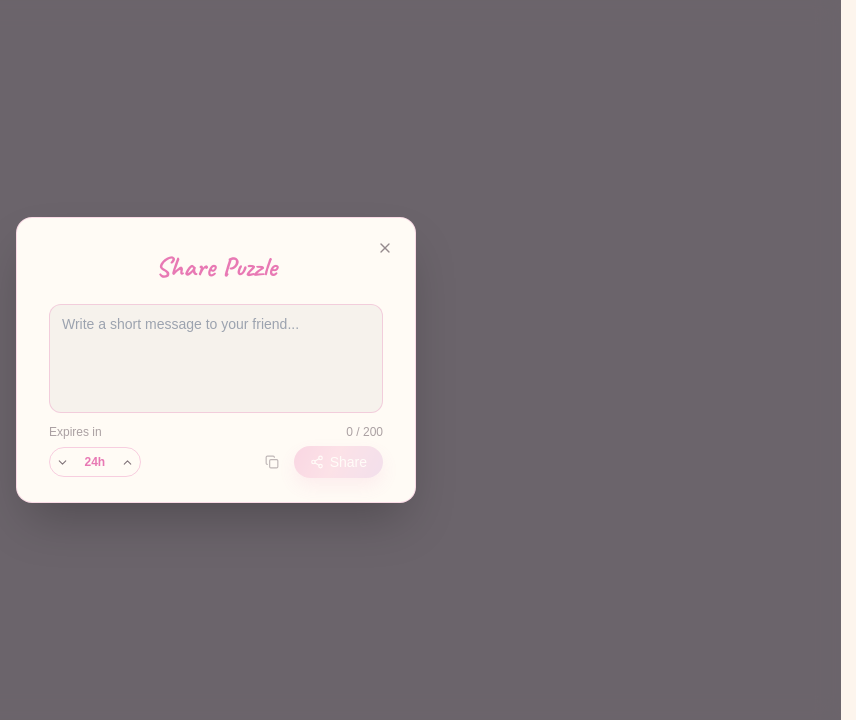
Test: SharePuzzleModal — counter and validation › updates counter as user types
Type "Hello" into the text box with placeholder "Write a short message to your friend..." at [216, 358], box [49, 304, 383, 413]
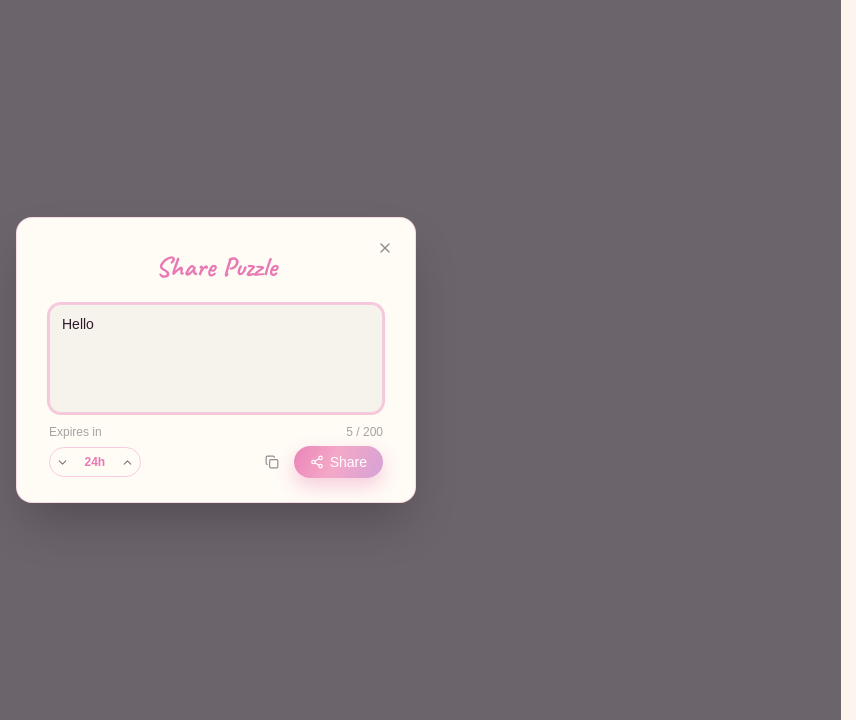
Expected: the text "5 / 200" is shown, [346, 424, 383, 440]
